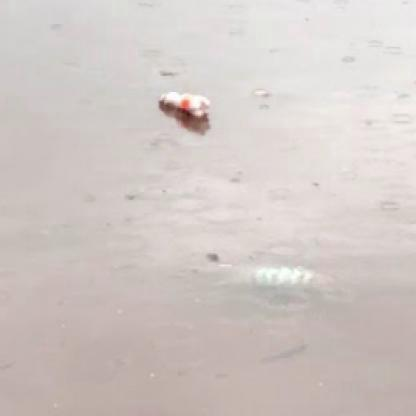Plastic: (154, 87, 214, 124)
